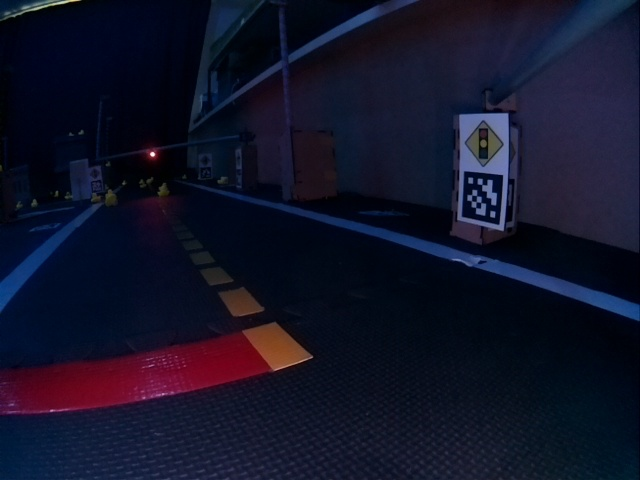Duckie: (105, 195, 119, 205), (157, 186, 168, 197), (90, 194, 99, 202)
QR code: (460, 172, 503, 225), (360, 208, 407, 219), (29, 223, 60, 231), (91, 180, 103, 191), (200, 167, 210, 177)
Signal sign: (463, 120, 504, 162)
Traffic light: (148, 150, 156, 158)
